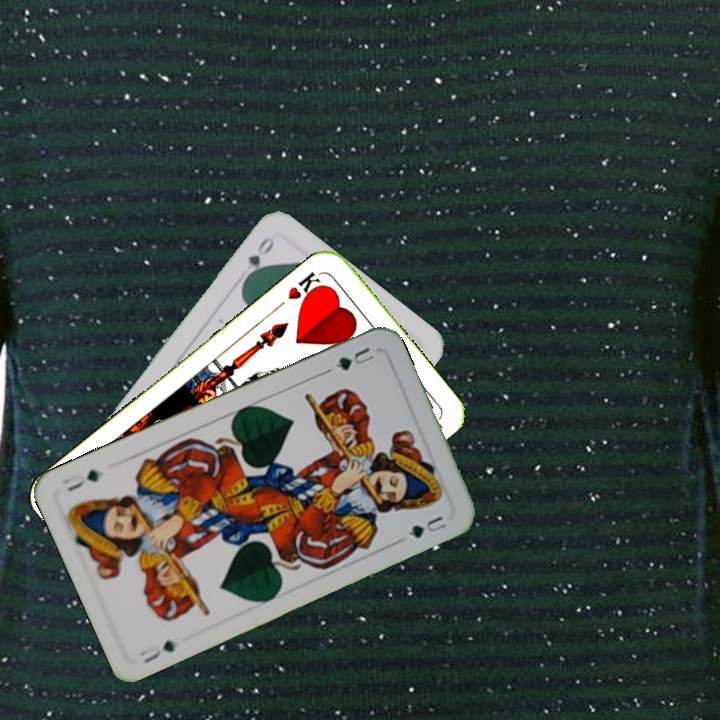GO: (239, 232, 277, 285)
GU: (331, 342, 377, 373), (135, 636, 180, 666)
HK: (283, 267, 327, 307)
